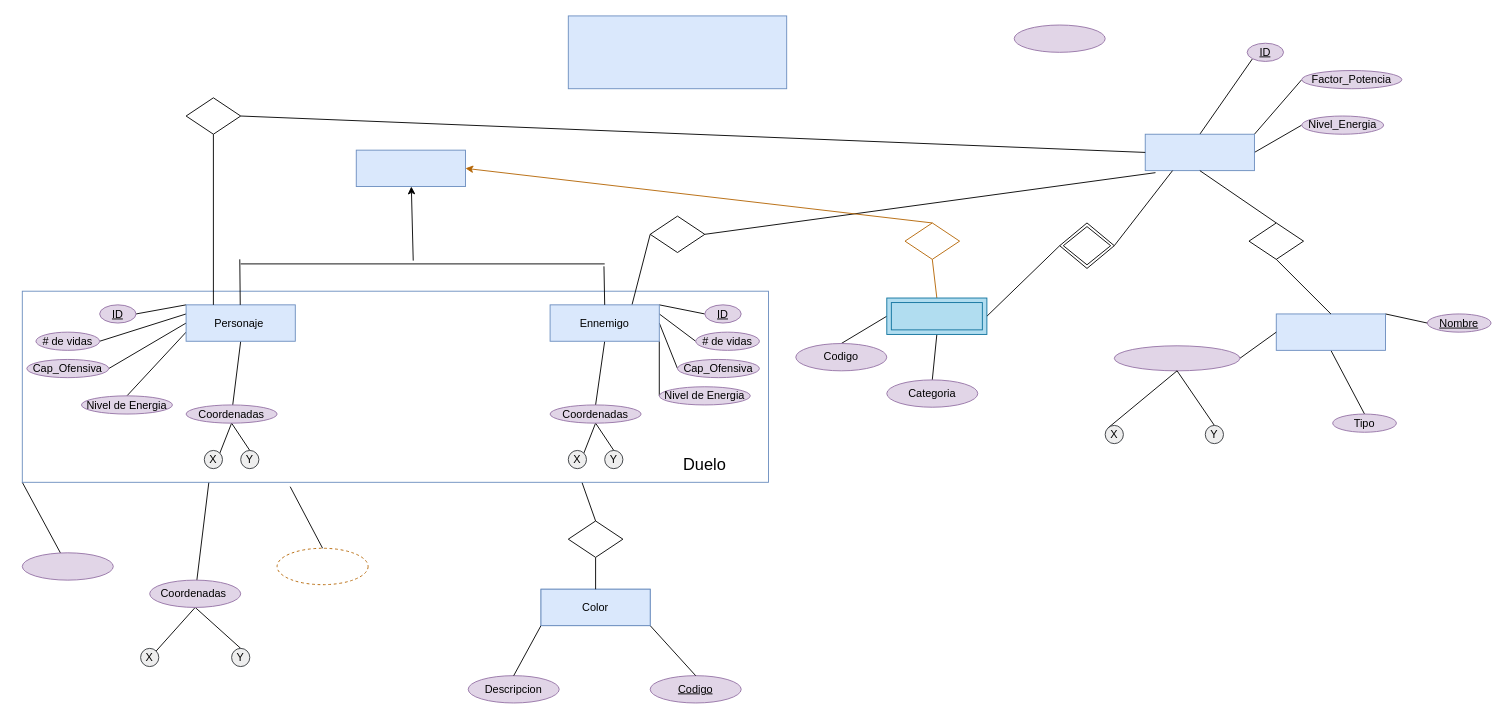
The diagram is 1507 pixels wide and 719 high, and some of its shapes have lost their labels. Here are the shapes that lost their labels. From the top down, the centre of each, then its label:
At (x=677, y=52): "Videojuego".
At (x=1059, y=38): "Fecha".
At (x=410, y=168): "Caracter".
At (x=1199, y=152): "Objeto de Bonificacion".
At (x=936, y=315): "Premio".
At (x=1330, y=331): "Almacen".
At (x=1176, y=358): "Posicion".
At (x=595, y=538): "Calidad".
At (x=67, y=566): "Fecha de Ocurrencia".
At (x=322, y=566): "Potencia".
